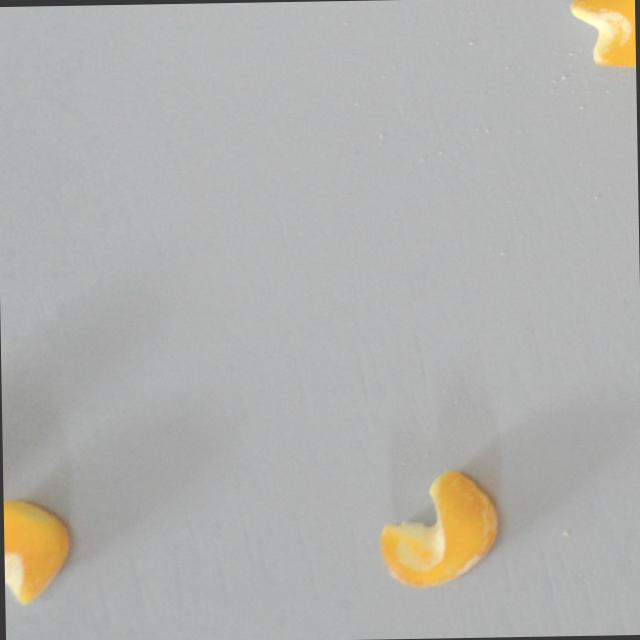no_canjicado: (3, 496, 71, 604), (569, 0, 636, 68)
pelicula: (376, 467, 501, 587)
